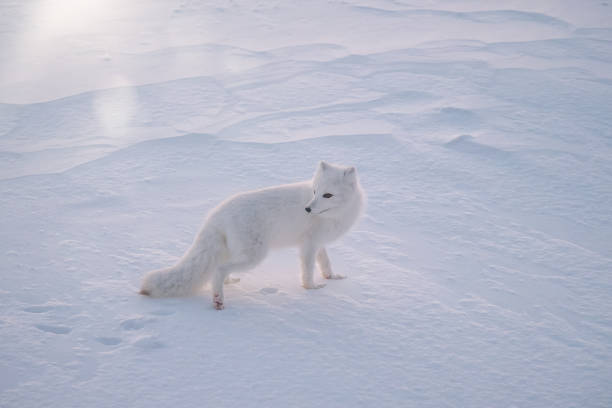arcticfox: (301, 166, 353, 232)
